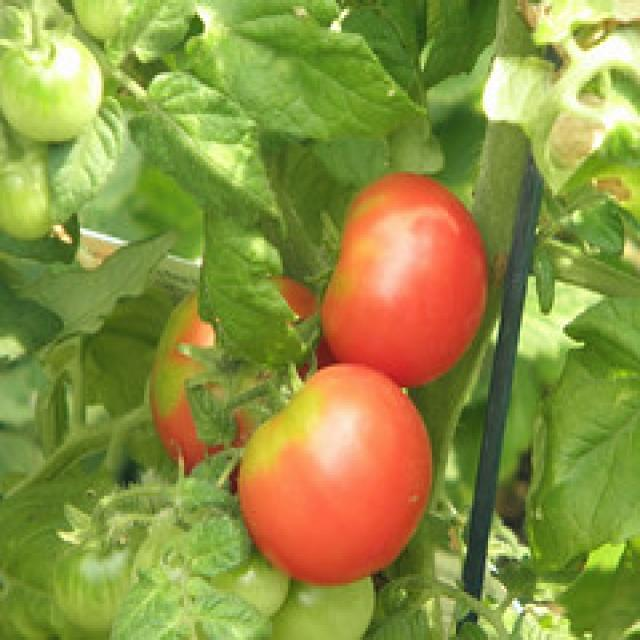Tomato: (233, 362, 435, 588), (314, 168, 493, 387)
